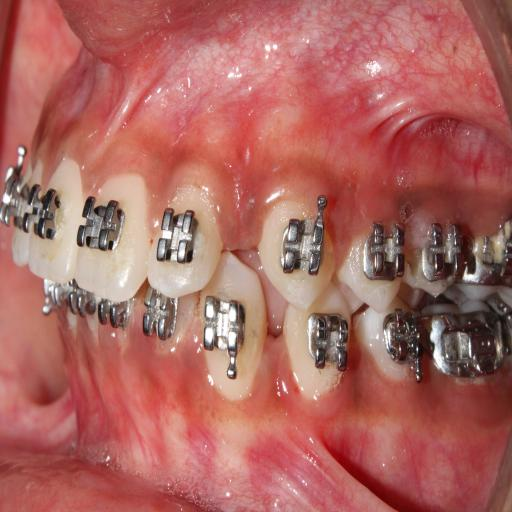correct_brace: (338, 218, 406, 312), (156, 202, 200, 275), (78, 198, 124, 260), (282, 217, 324, 280)
incorrect_brace: (148, 180, 222, 299), (362, 222, 404, 284)
